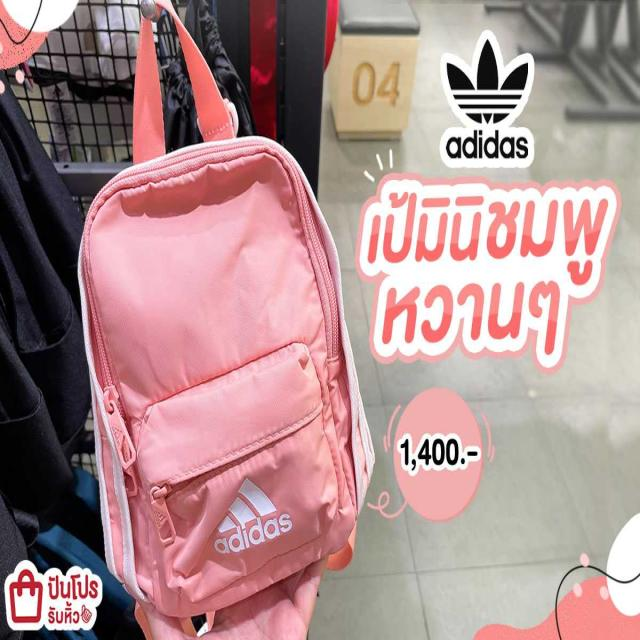Handbag: (77, 131, 379, 640)
